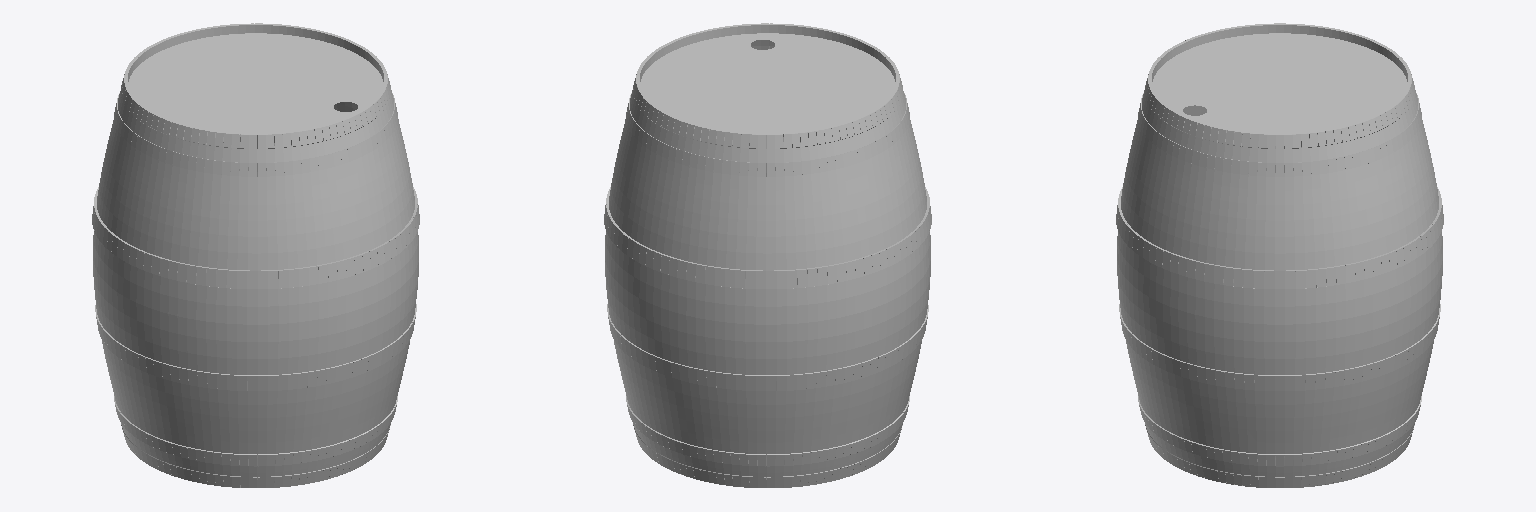
The model's file is Wooden Barrel.obj.
3 renders of one model, left to right at view 1: azimuth 30°, elevation 25°; view 2: azimuth 150°, elevation 25°; view 3: azimuth 270°, elevation 25°, orthographic.
Visible parts, largest first — view 1: Cylinder_Cylinder.002; view 2: Cylinder_Cylinder.002; view 3: Cylinder_Cylinder.002.
Boxes of the visible parts, box(x1,y1,x2,y2) form: Cylinder_Cylinder.002: box(92, 23, 419, 487); Cylinder_Cylinder.002: box(604, 23, 931, 487); Cylinder_Cylinder.002: box(1116, 23, 1443, 487).
Bounding box in the file's own units: 10.22 × 12.16 × 10.22.